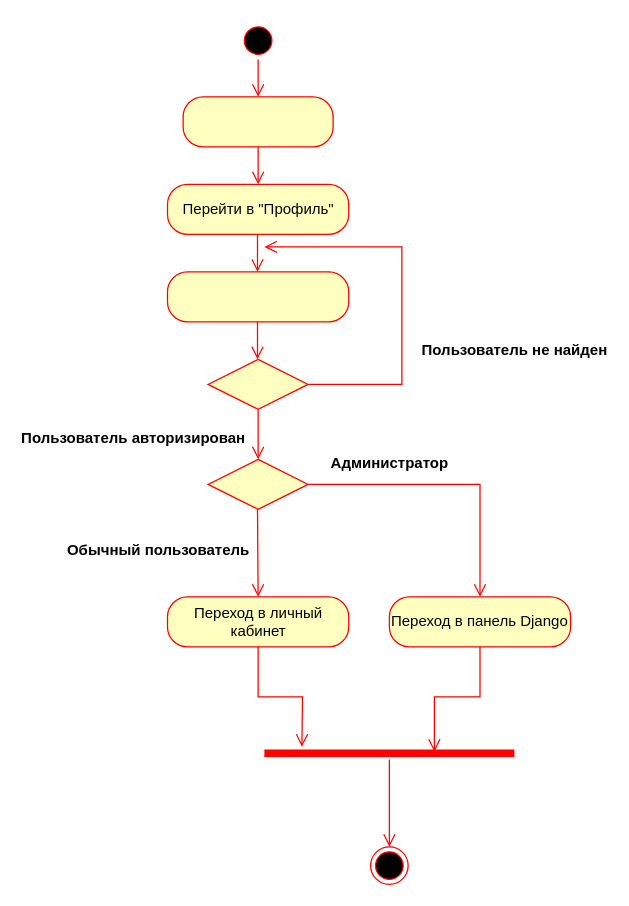
Some shapes in this 629 by 906 pixel diagram are drawn without their labels. The box of each missing label's shape, as (x1, y1, x2, y2) in pixels:
Ввод данных: (166, 271, 349, 322)
Вход на сайт: (182, 96, 333, 147)
